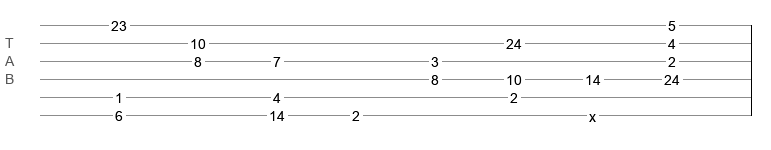1: (115, 90, 123, 100)
10: (190, 36, 206, 46), (506, 72, 522, 82)
14: (269, 108, 285, 118), (585, 72, 601, 82)
2: (352, 108, 360, 118), (510, 90, 518, 100), (668, 54, 676, 64)
23: (111, 18, 127, 28)
24: (506, 36, 522, 46), (664, 72, 680, 82)
3: (431, 54, 439, 64)
4: (273, 90, 281, 100), (668, 36, 676, 46)
5: (668, 18, 676, 28)
6: (115, 108, 123, 118)
7: (273, 54, 281, 64)
8: (194, 54, 202, 64), (431, 72, 439, 82)
x: (589, 109, 596, 117)
